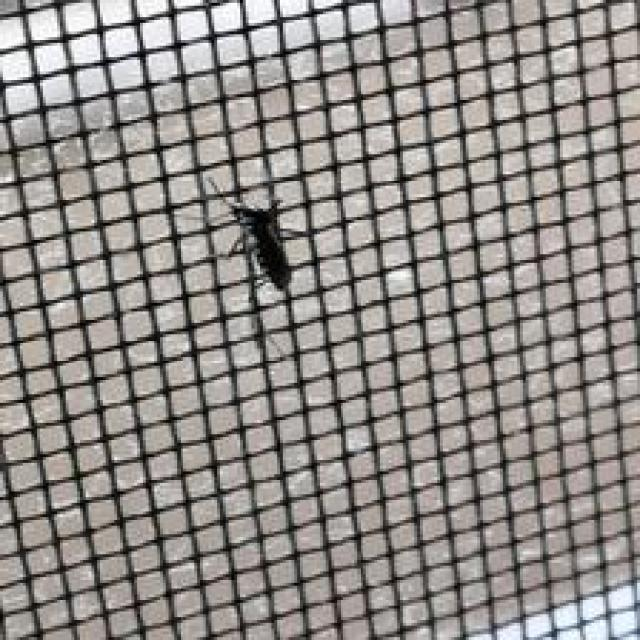Aedes albopictus: (226, 197, 294, 294)
